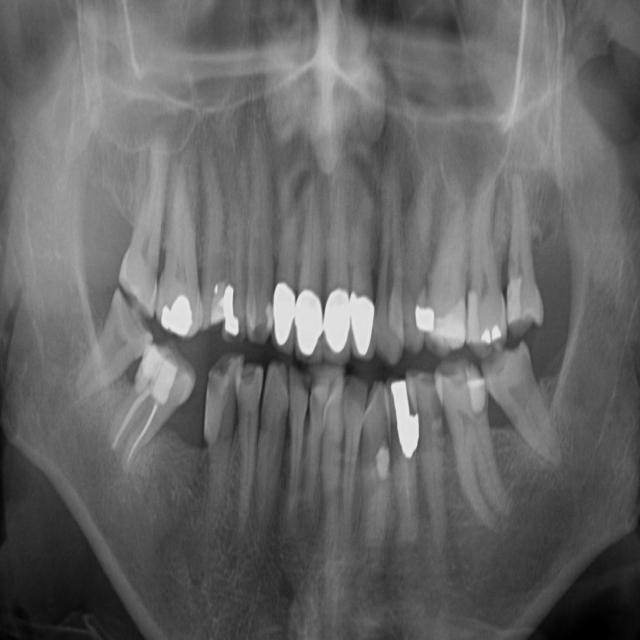dolgu: (388, 376, 425, 456), (206, 272, 246, 342), (143, 342, 189, 402), (156, 288, 200, 330), (408, 295, 443, 338), (461, 375, 494, 410), (478, 318, 507, 349)
kanal-tedavisi: (116, 373, 165, 489)
kaplama: (264, 271, 299, 341), (322, 280, 351, 359), (346, 284, 375, 354), (297, 284, 323, 358)
